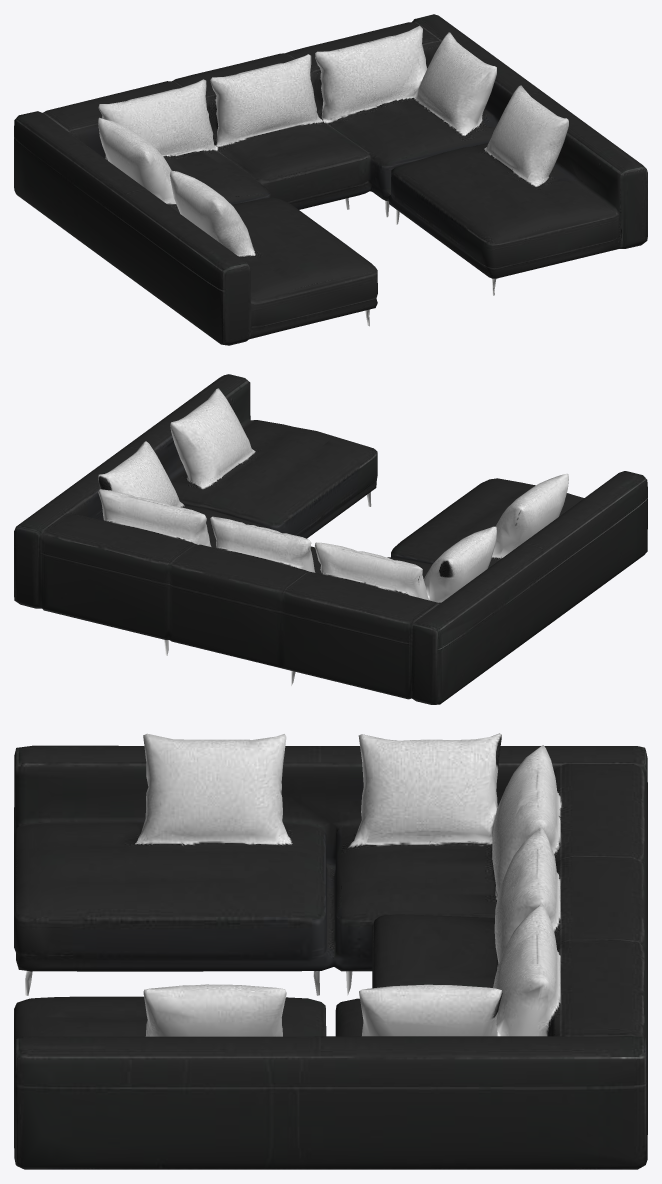
Rendered from couch.glb.
The picture shows the model from 3 angles, top to bottom: view 1: azimuth 30°, elevation 25°; view 2: azimuth 150°, elevation 25°; view 3: azimuth 270°, elevation 25°; orthographic projection. The views are drawn at different scales.
Parts seen in each view (by area): view 1: couch; view 2: couch; view 3: couch.
Part boxes in pixels (bbox=[...]): couch: bbox=[14, 14, 647, 345]; couch: bbox=[14, 374, 647, 704]; couch: bbox=[14, 733, 647, 1169].
Size of the model in its own units: 2.6 by 0.6915 by 2.2.
1 material, 1 textured.
